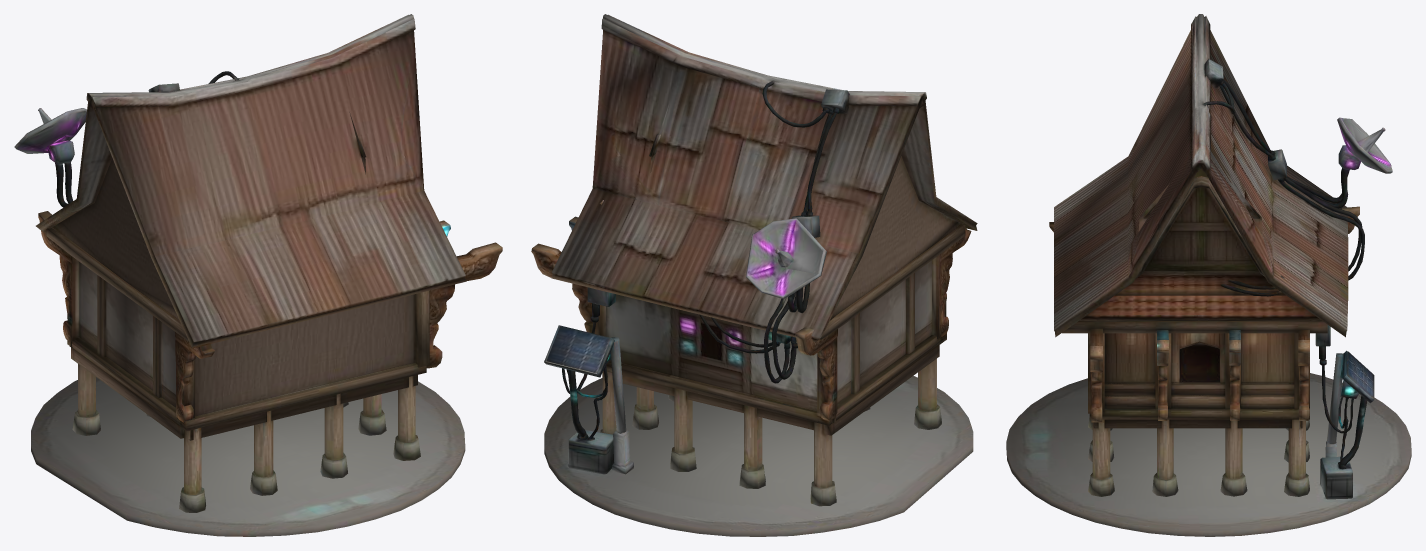
Rendered from maranao_torogan.glb.
3 views of the same model, side by side, from view 1: azimuth 30°, elevation 25°; view 2: azimuth 150°, elevation 25°; view 3: azimuth 270°, elevation 25° (orthographic). The views are drawn at different scales.
Parts seen in each view (by area): view 1: Body; view 2: Body; view 3: Body.
Boxes of the visible parts, x1,y1,x2,y2 form: Body: (14, 14, 502, 536); Body: (531, 14, 977, 536); Body: (1006, 14, 1411, 536).
Size of the model in its own units: 12 by 12.19 by 12.29.
2 materials, 2 textured.
